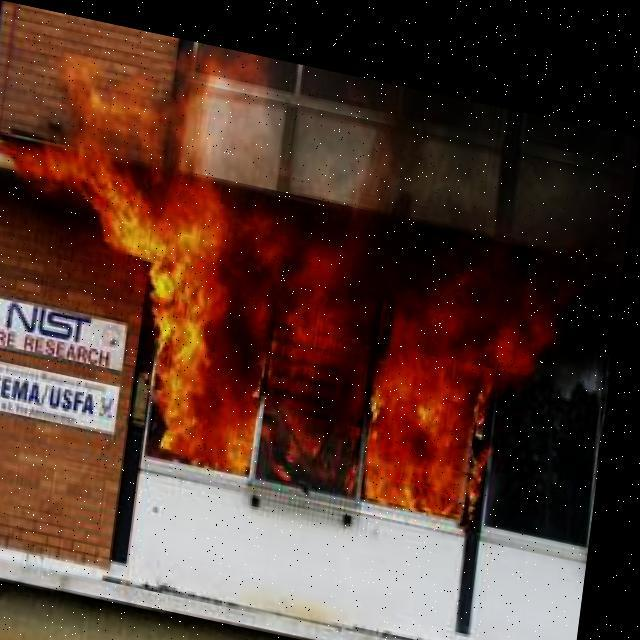Fire: (0, 30, 595, 515)
